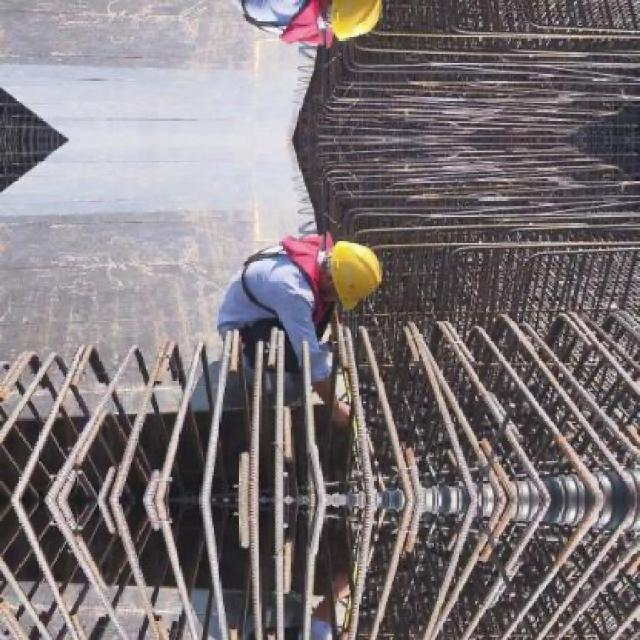con casco: (300, 193, 428, 300)
